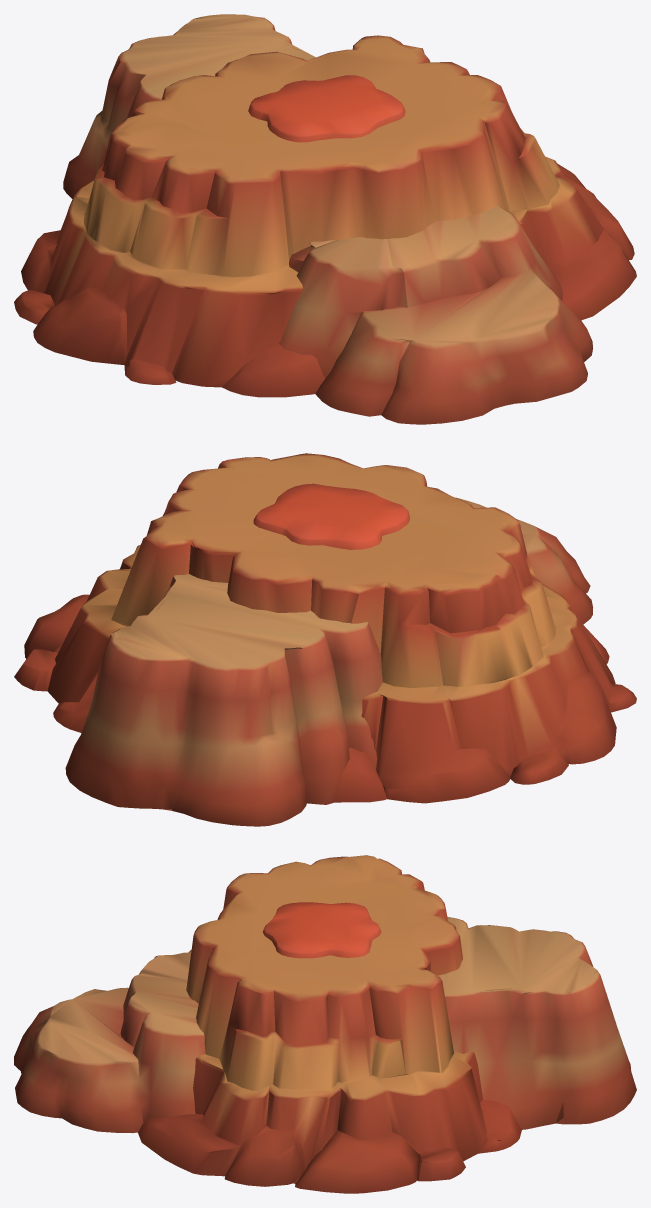
Rendered from env_landforms.glb.
3 renders of one model, top to bottom at view 1: azimuth 30°, elevation 25°; view 2: azimuth 150°, elevation 25°; view 3: azimuth 270°, elevation 25°, orthographic. The views are drawn at different scales.
Parts seen in each view (by area): view 1: mesa_a, mesa_b, butte; view 2: mesa_a, mesa_b, butte; view 3: mesa_a, mesa_b, butte.
Part boxes in pixels (x1=…): mesa_a: x1=14, y1=35, x2=636, y2=397; mesa_b: x1=63, y1=14, x2=592, y2=424; butte: x1=248, y1=75, x2=405, y2=142; mesa_a: x1=14, y1=453, x2=636, y2=803; mesa_b: x1=65, y1=497, x2=592, y2=826; butte: x1=253, y1=483, x2=409, y2=549; mesa_a: x1=138, y1=855, x2=521, y2=1193; mesa_b: x1=14, y1=916, x2=636, y2=1133; butte: x1=263, y1=902, x2=381, y2=958.
Size of the model in its own units: 113 by 34 by 125.
